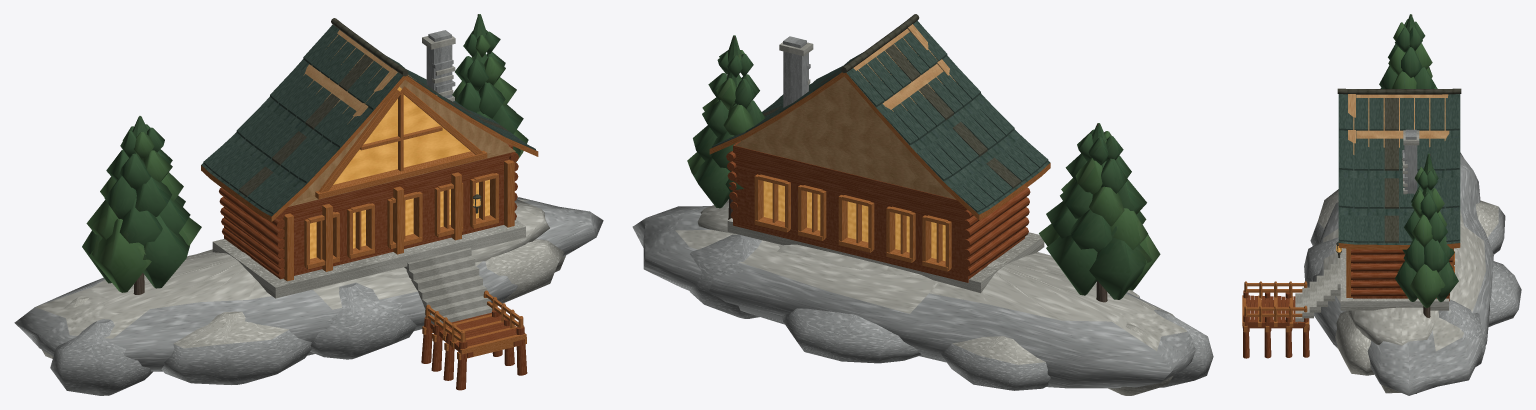
File: tahoe_lodge_point_mid.glb
3 renders of one model, left to right at view 1: azimuth 30°, elevation 25°; view 2: azimuth 150°, elevation 25°; view 3: azimuth 270°, elevation 25°, orthographic. The views are drawn at different scales.
Parts seen in each view (by area): view 1: tahoe_lodge_point_mid; view 2: tahoe_lodge_point_mid; view 3: tahoe_lodge_point_mid.
Part boxes in pixels (x1=…): tahoe_lodge_point_mid: x1=14, y1=14, x2=603, y2=395; tahoe_lodge_point_mid: x1=632, y1=14, x2=1213, y2=395; tahoe_lodge_point_mid: x1=1242, y1=14, x2=1521, y2=395.
Size of the model in its own units: 24 by 11.5 by 12.
Materials: 2 (2 with a texture image).
